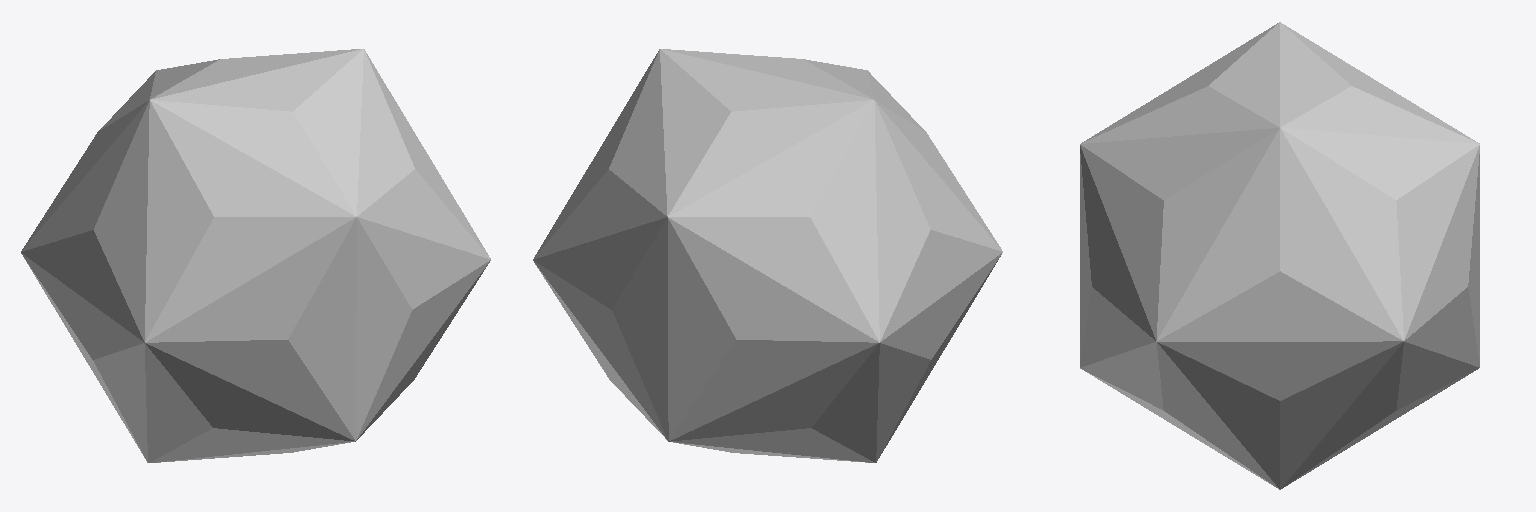
File: TriaKisIcosahedron.obj
3 views of the same model, side by side, from view 1: azimuth 30°, elevation 25°; view 2: azimuth 150°, elevation 25°; view 3: azimuth 270°, elevation 25° (orthographic).
Parts seen in each view (by area): view 1: TriaKisIcosahedron; view 2: TriaKisIcosahedron; view 3: TriaKisIcosahedron.
Boxes of the visible parts, x1,y1,x2,y2 form: TriaKisIcosahedron: [21, 49, 490, 462]; TriaKisIcosahedron: [533, 49, 1002, 462]; TriaKisIcosahedron: [1080, 22, 1479, 489].
Size of the model in its own units: 1.21 by 1.22 by 1.21.